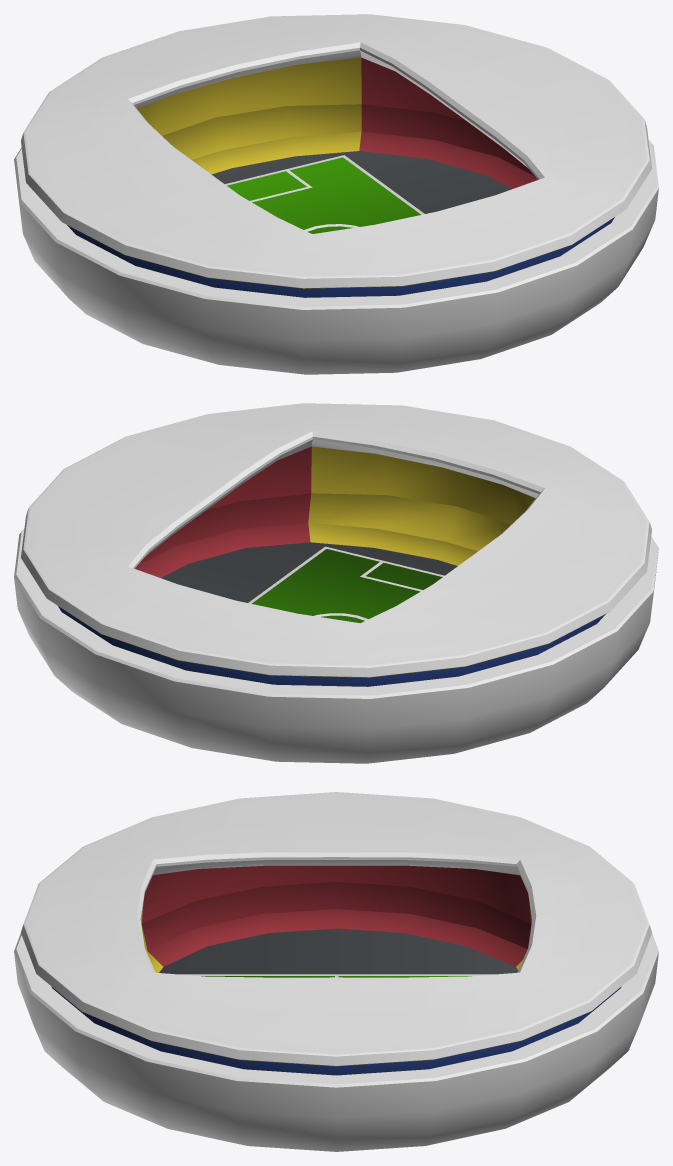
The model's file is Stadio.fbx.
3 views of the same model, one above another, from view 1: azimuth 30°, elevation 25°; view 2: azimuth 150°, elevation 25°; view 3: azimuth 270°, elevation 25° (orthographic).
Parts seen in each view (by area): view 1: pTorus2; view 2: pTorus2; view 3: pTorus2.
Boxes of the visible parts, <box> form: pTorus2: <box>14,14,658,374</box>; pTorus2: <box>14,403,658,763</box>; pTorus2: <box>14,792,658,1151</box>.
Size of the model in its own units: 0.0855 by 0.0168 by 0.0855.
